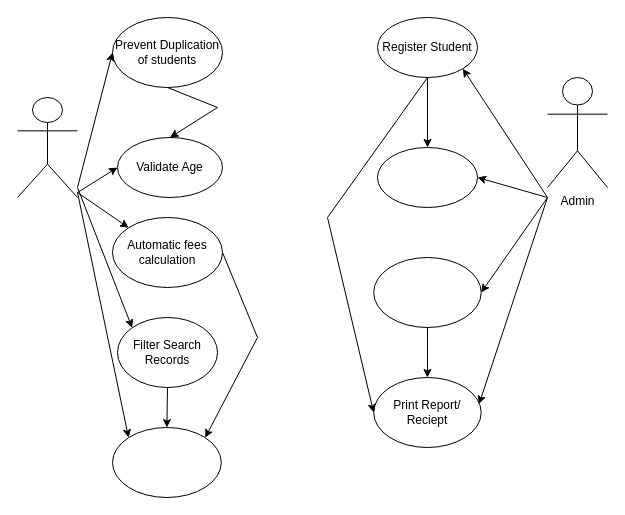
The diagram is 625 pixels wide and 515 high, and some of its shapes have lost their labels. The shapes that lost their labels are listed below. From the top down, each one's centre as x and y in pixels, then its label:
At pixel 47 147: "System".
At pixel 427 177: "Upload photo".
At pixel 427 292: "Search Records".
At pixel 166 462: "Generate Report/Reciept".
